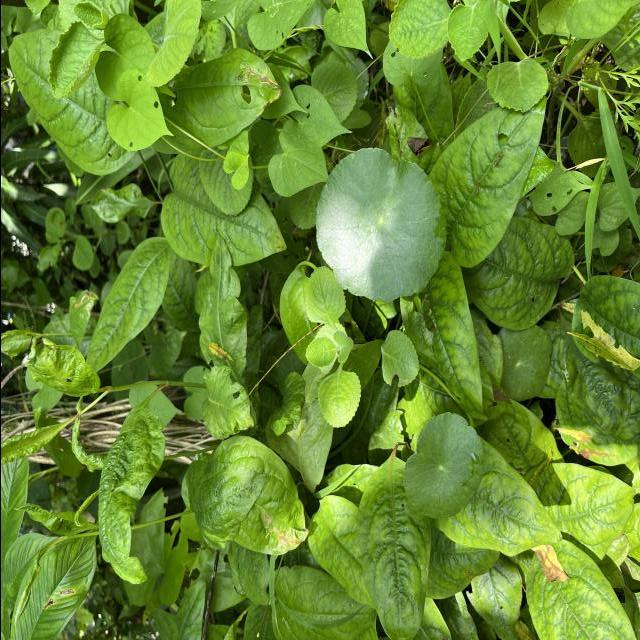Bacopa monnieri: (312, 146, 446, 304), (400, 410, 484, 520), (492, 324, 552, 403)
